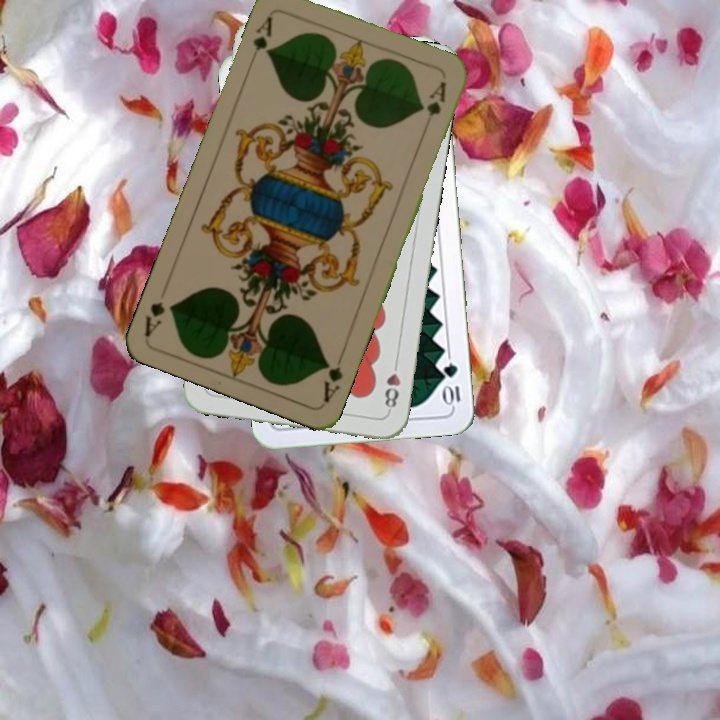G10: (440, 359, 463, 408)
GA: (319, 348, 347, 405), (248, 10, 275, 57)
H8: (380, 356, 403, 415)
